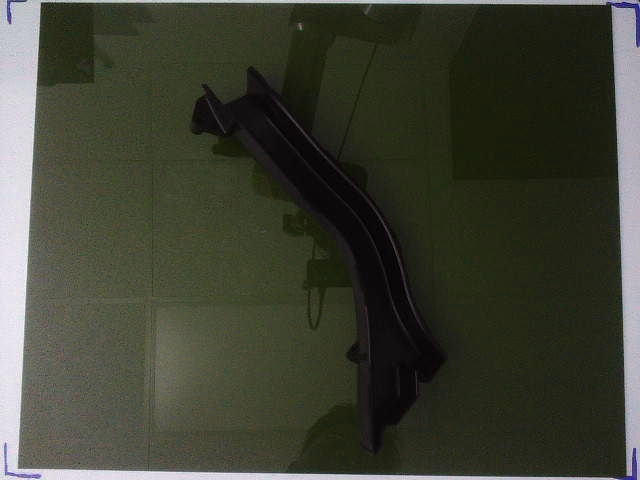887_A-Under: (192, 66, 445, 453)
